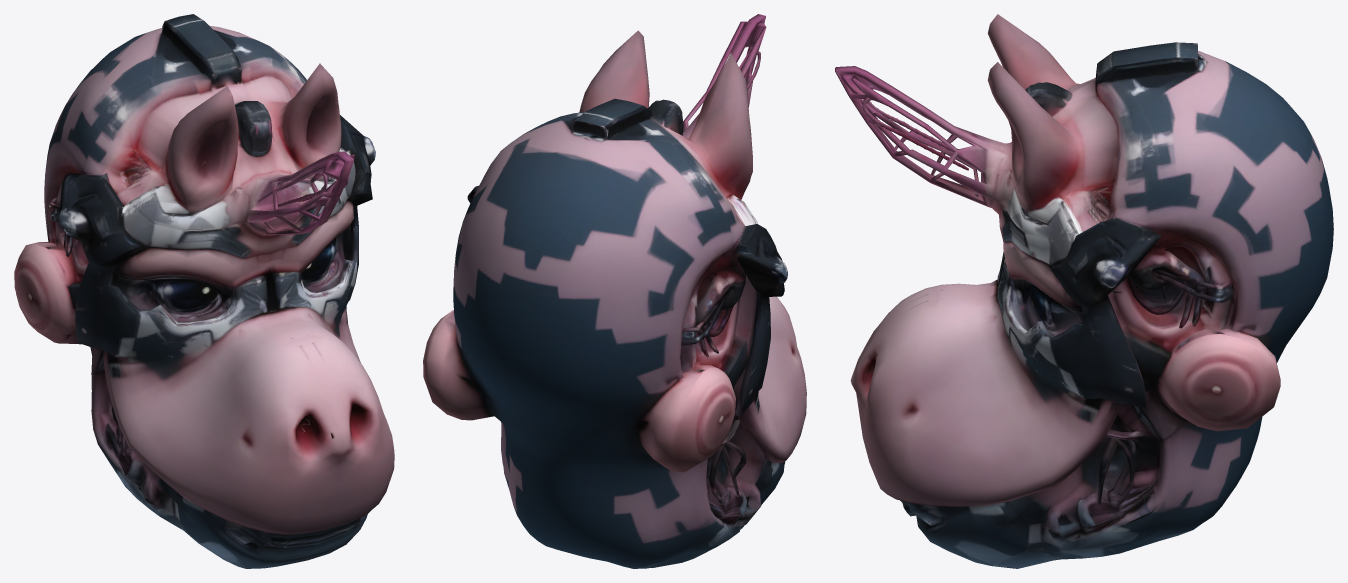
File: unibrowserloadicorn.glb
The picture shows the model from 3 angles, left to right: view 1: azimuth 30°, elevation 25°; view 2: azimuth 150°, elevation 25°; view 3: azimuth 270°, elevation 25°; orthographic projection. The views are drawn at different scales.
Visible parts, largest first — view 1: unibrowserloadicorn; view 2: unibrowserloadicorn; view 3: unibrowserloadicorn.
Boxes of the visible parts, x1,y1,x2,y2 form: unibrowserloadicorn: (14, 14, 394, 568); unibrowserloadicorn: (423, 14, 806, 568); unibrowserloadicorn: (835, 14, 1333, 568).
Size of the model in its own units: 1.29 by 1.91 by 1.68.
Materials: 2 (2 with a texture image).
